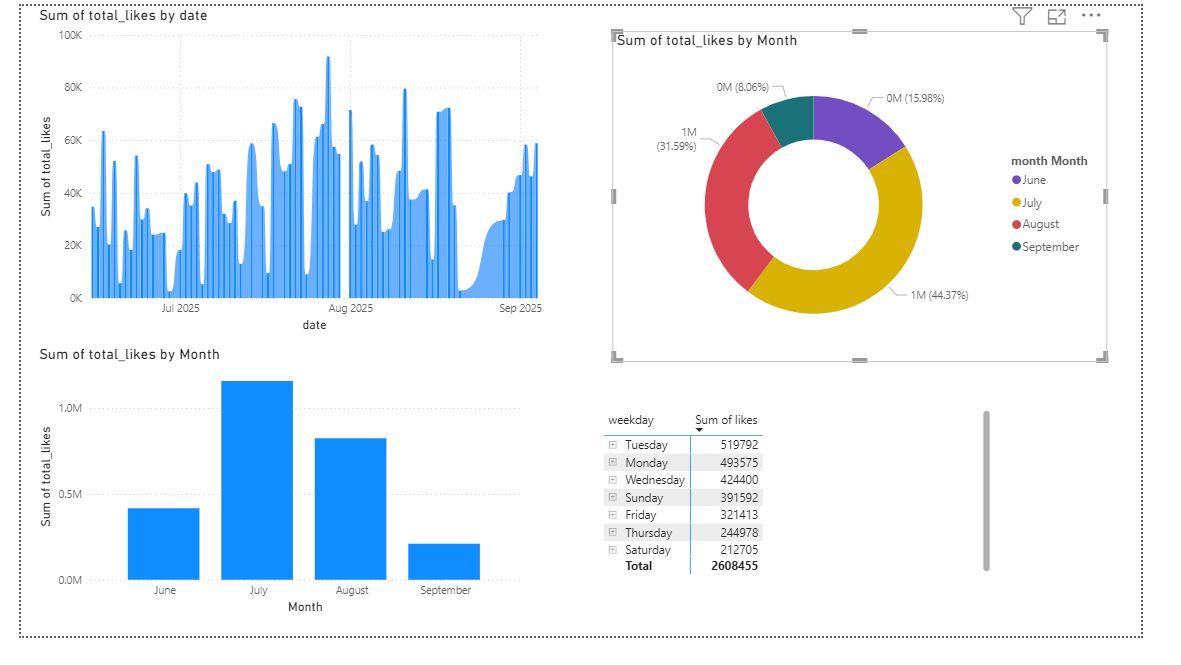

What the dashboard file says about the page in this screenshot:
{"tool":"powerbi","page":{"name":"Page 1","canvas":[1280,720],"ordinal":0},"visuals":[{"type":"ribbonChart","fields":{"Category":["daily_summary_2025 csv.date"],"Y":["Sum(daily_summary_2025 csv.total_likes)"]},"box":[15.9,0,605.3,377.9],"z":0},{"type":"columnChart","fields":{"Category":["daily_summary_2025 csv.date.Variation.Date Hierarchy.Month"],"Y":["Sum(daily_summary_2025 csv.total_likes)"]},"box":[16.3,386.8,560.3,312.7],"z":1},{"type":"pivotTable","fields":{"Rows":["tiktok_live_dataset_2025 csv.weekday","tiktok_live_dataset_2025 csv.start_dt.Variation.Date Hierarchy.Day"],"Values":["Sum(tiktok_live_dataset_2025 csv.likes)"]},"box":[661.4,457.1,451.4,197.1],"z":2},{"type":"donutChart","fields":{"Category":["monthly_summary_2025 csv.month.Variation.Date Hierarchy.Month"],"Y":["Sum(monthly_summary_2025 csv.total_likes)"]},"box":[675.7,28.6,565.7,378.6],"z":3}]}

Visuals, with their boxes in screenshot pixels (x1, y1, x2, y2), scaled from the page's 1280x720 canvas onto the 1181x665 screenshot:
ribbonChart - daily_summary_2025 csv.date x Sum(daily_summary_2025 csv.total_likes): detection(15, 0, 573, 349)
columnChart - daily_summary_2025 csv.date.Variation.Date Hierarchy.Month x Sum(daily_summary_2025 csv.total_likes): detection(15, 357, 532, 646)
pivotTable - tiktok_live_dataset_2025 csv.weekday x tiktok_live_dataset_2025 csv.start_dt.Variation.Date Hierarchy.Day: detection(610, 422, 1027, 604)
donutChart - monthly_summary_2025 csv.month.Variation.Date Hierarchy.Month x Sum(monthly_summary_2025 csv.total_likes): detection(623, 26, 1145, 376)
